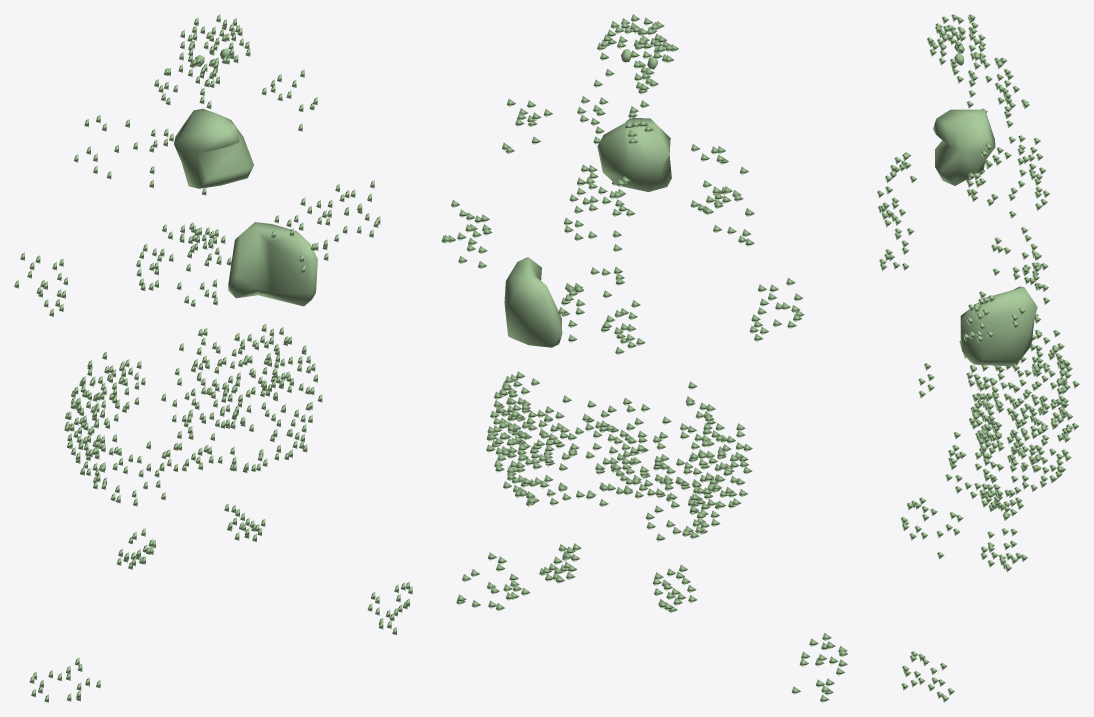
The model's file is pediatric_neonate_male.lymphatic.LOD3.glb.
3 views of the same model, side by side, from view 1: azimuth 30°, elevation 25°; view 2: azimuth 150°, elevation 25°; view 3: azimuth 270°, elevation 25° (orthographic). The views are drawn at different scales.
Visible parts, largest first — view 1: PEDIATRIC.NEONATE.MALE.LYMPHATIC.LYMPHATIC_NODES_TRUNK, PEDIATRIC.NEONATE.MALE.LYMPHATIC.SPLEEN, PEDIATRIC.NEONATE.MALE.LYMPHATIC.THYMUS, PEDIATRIC.NEONATE.MALE.LYMPHATIC.LYMPHATIC_NODES_ET, PEDIATRIC.NEONATE.MALE.LYMPHATIC.LYMPHATIC_NODES_THORACIC, PEDIATRIC.NEONATE.MALE.LYMPHATIC.LYMPHATIC_NODES_ARMS, PEDIATRIC.NEONATE.MALE.LYMPHATIC.LYMPHATIC_NODES_LEGS; view 2: PEDIATRIC.NEONATE.MALE.LYMPHATIC.LYMPHATIC_NODES_TRUNK, PEDIATRIC.NEONATE.MALE.LYMPHATIC.THYMUS, PEDIATRIC.NEONATE.MALE.LYMPHATIC.SPLEEN, PEDIATRIC.NEONATE.MALE.LYMPHATIC.LYMPHATIC_NODES_THORACIC, PEDIATRIC.NEONATE.MALE.LYMPHATIC.LYMPHATIC_NODES_ET, PEDIATRIC.NEONATE.MALE.LYMPHATIC.LYMPHATIC_NODES_LEGS, PEDIATRIC.NEONATE.MALE.LYMPHATIC.LYMPHATIC_NODES_ARMS, PEDIATRIC.NEONATE.MALE.LYMPHATIC.LYMPHATIC_NODES_HEAD; view 3: PEDIATRIC.NEONATE.MALE.LYMPHATIC.LYMPHATIC_NODES_TRUNK, PEDIATRIC.NEONATE.MALE.LYMPHATIC.SPLEEN, PEDIATRIC.NEONATE.MALE.LYMPHATIC.THYMUS, PEDIATRIC.NEONATE.MALE.LYMPHATIC.LYMPHATIC_NODES_THORACIC, PEDIATRIC.NEONATE.MALE.LYMPHATIC.LYMPHATIC_NODES_ET, PEDIATRIC.NEONATE.MALE.LYMPHATIC.LYMPHATIC_NODES_LEGS, PEDIATRIC.NEONATE.MALE.LYMPHATIC.LYMPHATIC_NODES_ARMS, PEDIATRIC.NEONATE.MALE.LYMPHATIC.LYMPHATIC_NODES_HEAD.
Boxes of the visible parts, box(x1,y1,x2,y2) form: PEDIATRIC.NEONATE.MALE.LYMPHATIC.LYMPHATIC_NODES_TRUNK: box(64, 69, 329, 569); PEDIATRIC.NEONATE.MALE.LYMPHATIC.SPLEEN: box(228, 222, 317, 306); PEDIATRIC.NEONATE.MALE.LYMPHATIC.THYMUS: box(174, 108, 254, 188); PEDIATRIC.NEONATE.MALE.LYMPHATIC.LYMPHATIC_NODES_ET: box(178, 14, 250, 87); PEDIATRIC.NEONATE.MALE.LYMPHATIC.LYMPHATIC_NODES_THORACIC: box(136, 128, 225, 306); PEDIATRIC.NEONATE.MALE.LYMPHATIC.LYMPHATIC_NODES_ARMS: box(14, 180, 380, 316); PEDIATRIC.NEONATE.MALE.LYMPHATIC.LYMPHATIC_NODES_LEGS: box(29, 581, 412, 702); PEDIATRIC.NEONATE.MALE.LYMPHATIC.LYMPHATIC_NODES_TRUNK: box(486, 99, 754, 612); PEDIATRIC.NEONATE.MALE.LYMPHATIC.THYMUS: box(597, 117, 671, 191); PEDIATRIC.NEONATE.MALE.LYMPHATIC.SPLEEN: box(504, 257, 562, 347); PEDIATRIC.NEONATE.MALE.LYMPHATIC.LYMPHATIC_NODES_THORACIC: box(558, 171, 645, 354); PEDIATRIC.NEONATE.MALE.LYMPHATIC.LYMPHATIC_NODES_ET: box(597, 14, 678, 94); PEDIATRIC.NEONATE.MALE.LYMPHATIC.LYMPHATIC_NODES_LEGS: box(456, 552, 847, 702); PEDIATRIC.NEONATE.MALE.LYMPHATIC.LYMPHATIC_NODES_ARMS: box(441, 200, 804, 341); PEDIATRIC.NEONATE.MALE.LYMPHATIC.LYMPHATIC_NODES_HEAD: box(577, 79, 653, 144); PEDIATRIC.NEONATE.MALE.LYMPHATIC.LYMPHATIC_NODES_TRUNK: box(877, 57, 1079, 571); PEDIATRIC.NEONATE.MALE.LYMPHATIC.SPLEEN: box(960, 286, 1037, 366); PEDIATRIC.NEONATE.MALE.LYMPHATIC.THYMUS: box(933, 109, 995, 185); PEDIATRIC.NEONATE.MALE.LYMPHATIC.LYMPHATIC_NODES_THORACIC: box(985, 135, 1049, 304); PEDIATRIC.NEONATE.MALE.LYMPHATIC.LYMPHATIC_NODES_ET: box(927, 14, 986, 83); PEDIATRIC.NEONATE.MALE.LYMPHATIC.LYMPHATIC_NODES_LEGS: box(900, 497, 963, 702); PEDIATRIC.NEONATE.MALE.LYMPHATIC.LYMPHATIC_NODES_ARMS: box(963, 156, 1028, 343); PEDIATRIC.NEONATE.MALE.LYMPHATIC.LYMPHATIC_NODES_HEAD: box(966, 61, 1019, 127).
Size of the model in its own units: 0.1822 by 0.2964 by 0.0897.
